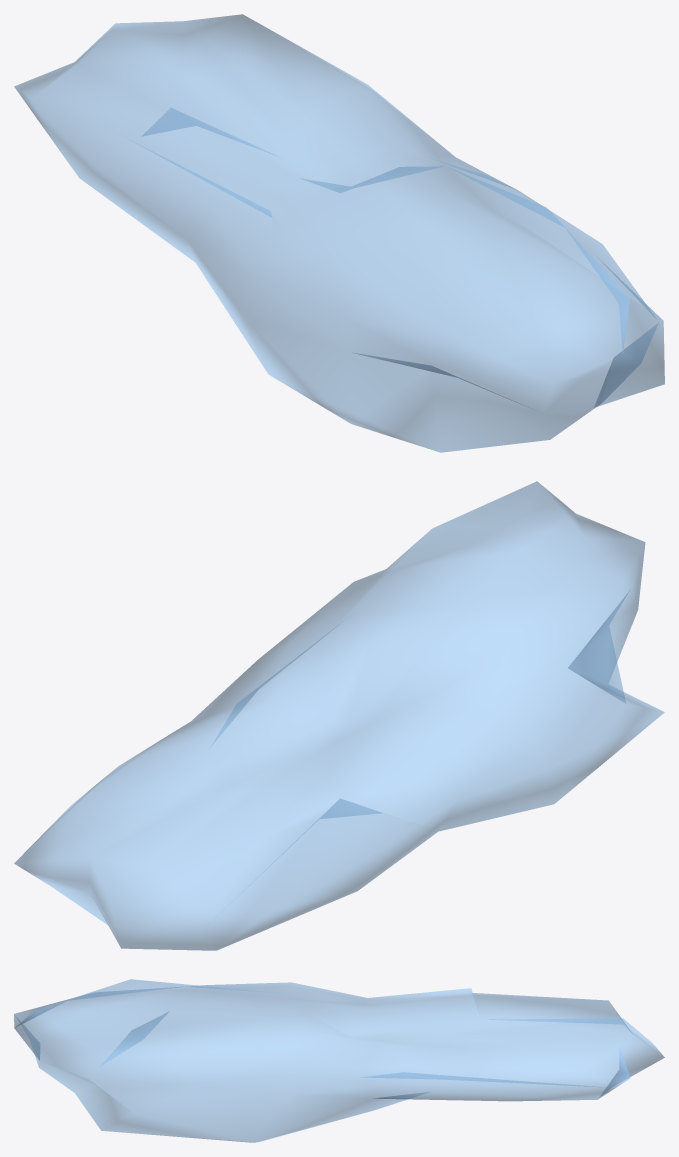
Rendered from ttakai_shield.gltf.
The picture shows the model from 3 angles, top to bottom: view 1: azimuth 30°, elevation 25°; view 2: azimuth 150°, elevation 25°; view 3: azimuth 270°, elevation 25°; orthographic projection. The views are drawn at different scales.
Visible parts, largest first — view 1: ttakai.shield; view 2: ttakai.shield; view 3: ttakai.shield.
Part boxes in pixels (x1,y1,x2,y2): ttakai.shield: (14,14,664,452); ttakai.shield: (14,481,664,950); ttakai.shield: (14,979,664,1142).
Size of the model in its own units: 13.84 by 7.29 by 35.18.
